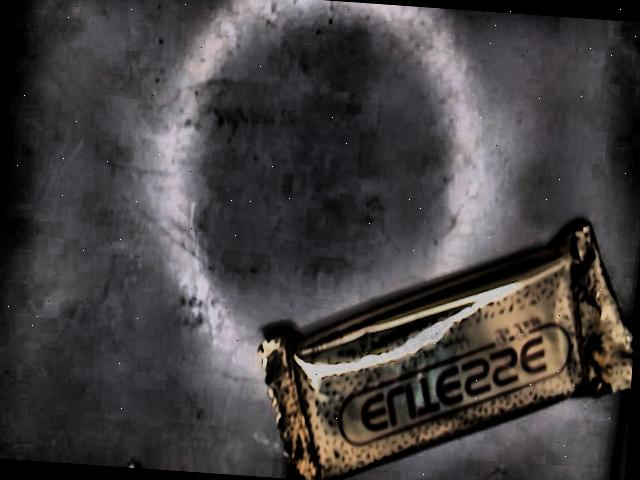Plastic: (255, 222, 634, 480)
